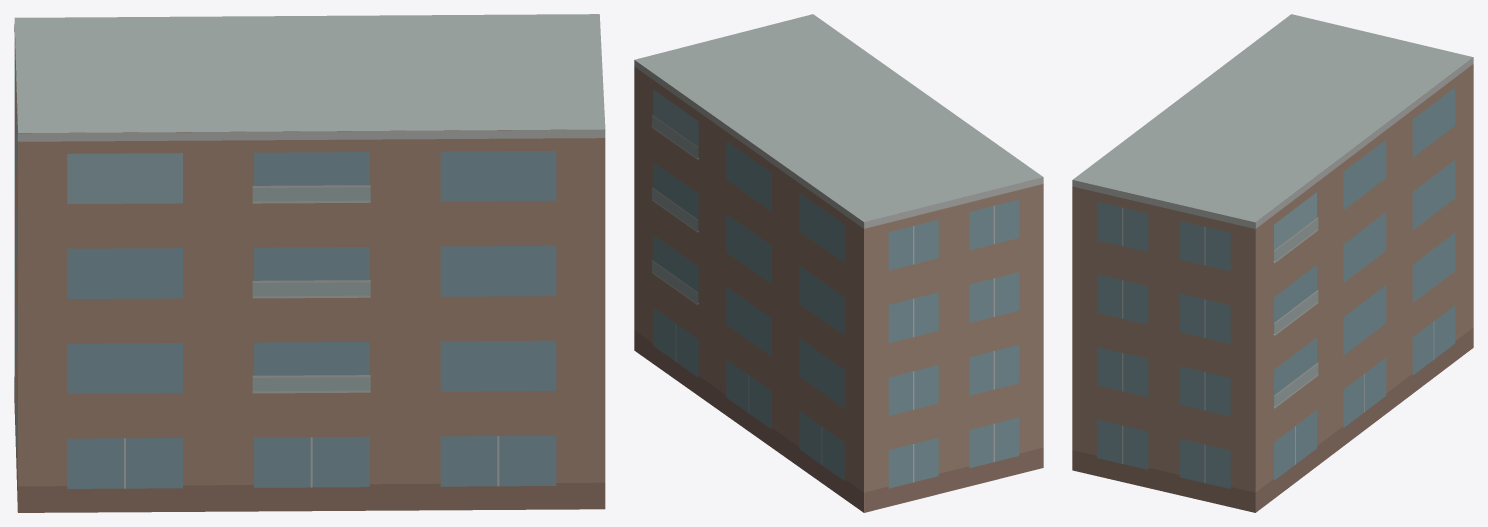
Rendered from survey-upis-32851977.glb.
3 views of the same model, side by side, from view 1: azimuth 30°, elevation 25°; view 2: azimuth 150°, elevation 25°; view 3: azimuth 270°, elevation 25° (orthographic). The views are drawn at different scales.
Parts seen in each view (by area): view 1: survey-upis-32851977.tmp; view 2: survey-upis-32851977.tmp; view 3: survey-upis-32851977.tmp.
Part boxes in pixels (x1,y1,x2,y2): survey-upis-32851977.tmp: (14,14,605,512); survey-upis-32851977.tmp: (634,14,1043,512); survey-upis-32851977.tmp: (1072,14,1473,512).
Size of the model in its own units: 16.47 by 10.7 by 13.4.
